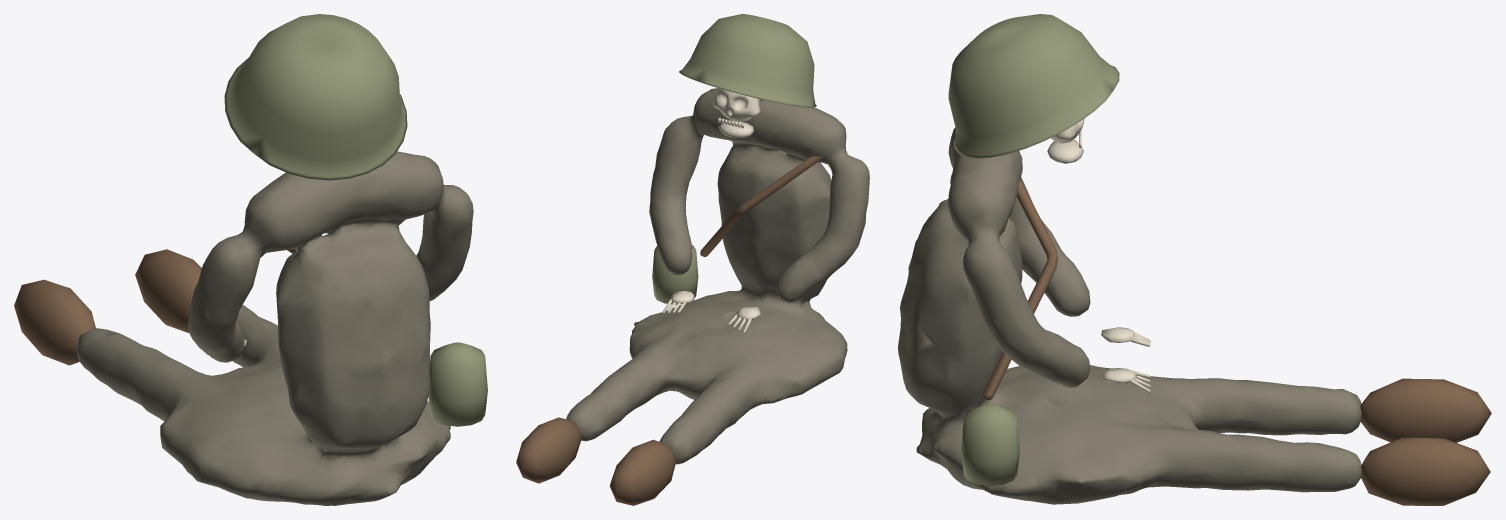
The model's file is soldier_remains.glb.
The picture shows the model from 3 angles, left to right: view 1: azimuth 30°, elevation 25°; view 2: azimuth 150°, elevation 25°; view 3: azimuth 270°, elevation 25°; orthographic projection. The views are drawn at different scales.
Parts seen in each view (by area): view 1: soldier_remains; view 2: soldier_remains; view 3: soldier_remains.
Boxes of the visible parts, x1,y1,x2,y2 form: soldier_remains: [14, 14, 487, 505]; soldier_remains: [516, 14, 869, 505]; soldier_remains: [898, 14, 1491, 505].
Bounding box in the file's own units: 0.5892 × 0.9353 × 1.11.
